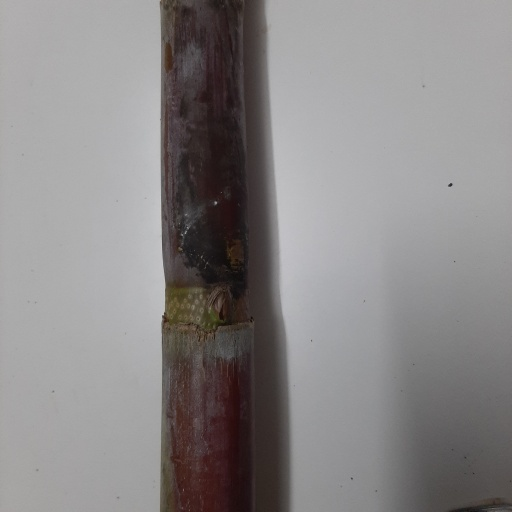Bud: (214, 290, 232, 323)
